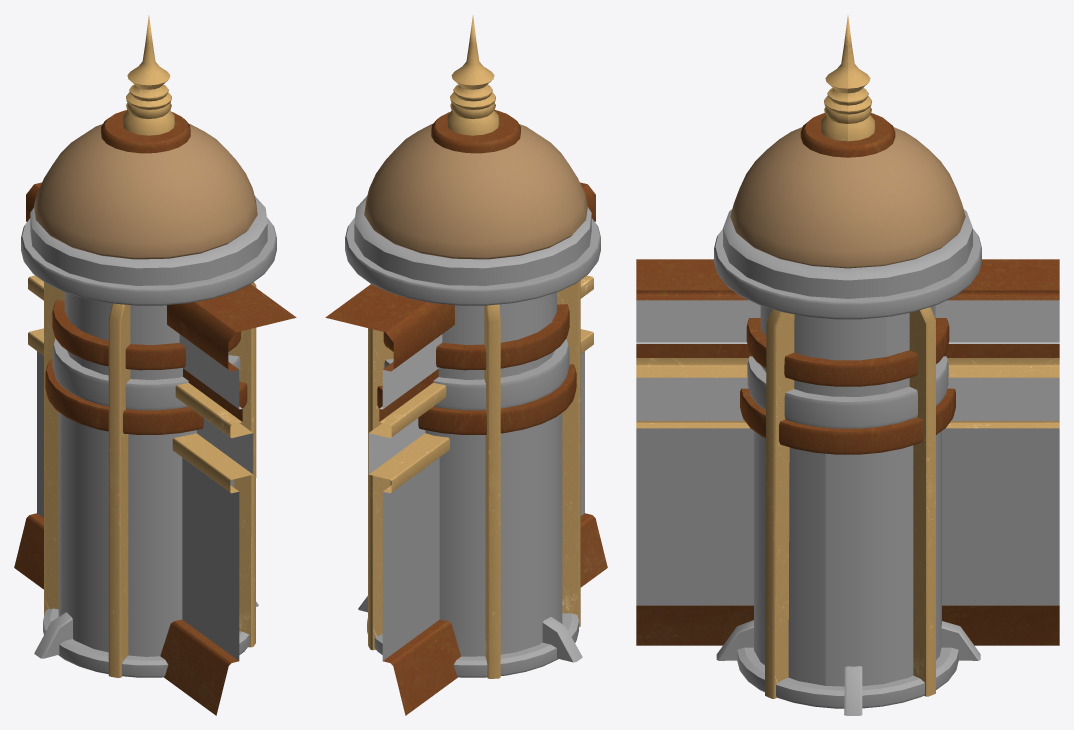
File: Wall_01.fbx
3 renders of one model, left to right at view 1: azimuth 30°, elevation 25°; view 2: azimuth 150°, elevation 25°; view 3: azimuth 270°, elevation 25°, orthographic. The views are drawn at different scales.
Parts seen in each view (by area): view 1: Wall_01; view 2: Wall_01; view 3: Wall_01.
Boxes of the visible parts, x1,y1,x2,y2 form: Wall_01: [14, 15, 296, 715]; Wall_01: [325, 15, 607, 715]; Wall_01: [636, 15, 1059, 715].
Bounding box in the file's own units: 185 × 497 × 294.
